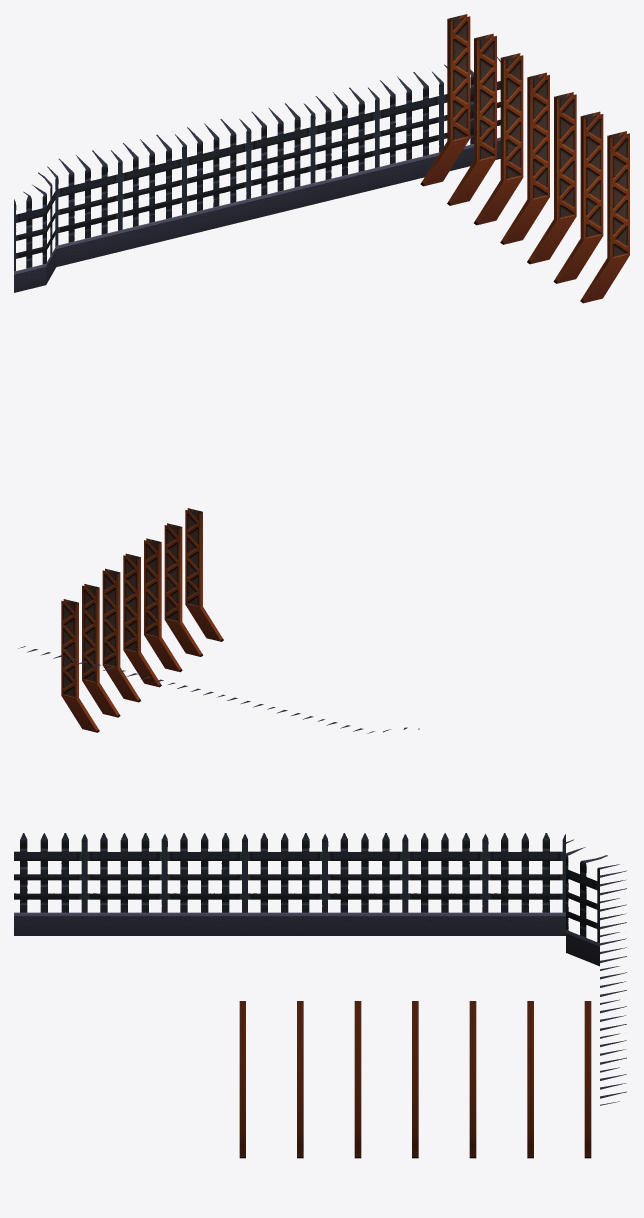
File: S2_BG_Light.FBX
The picture shows the model from 3 angles, top to bottom: view 1: azimuth 30°, elevation 25°; view 2: azimuth 150°, elevation 25°; view 3: azimuth 270°, elevation 25°; orthographic projection. The views are drawn at different scales.
Visible parts, largest first — view 1: S2_BG_Light; view 2: S2_BG_Light; view 3: S2_BG_Light.
Part boxes in pixels (box(x1,y1,x2,y2)): S2_BG_Light: box(14, 14, 629, 303); S2_BG_Light: box(18, 508, 419, 733); S2_BG_Light: box(14, 833, 626, 1158).
Bounding box in the file's own units: 8880 × 8633 × 2653.
Materials: 1 (1 with a texture image).
